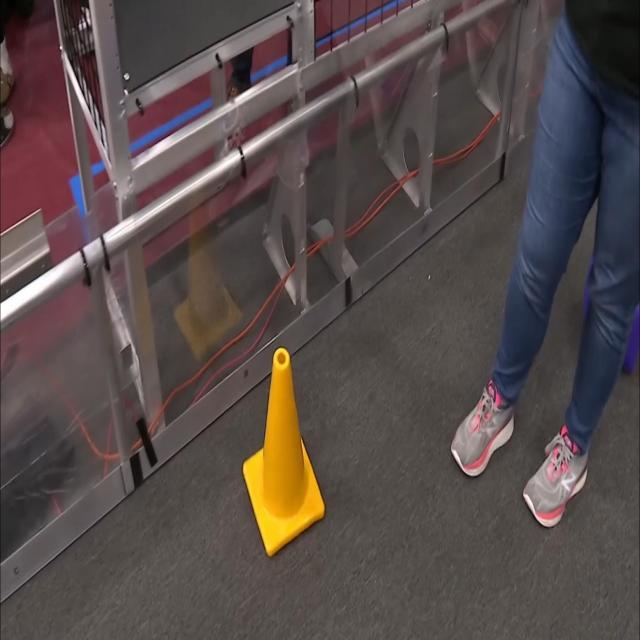frc_cone: (242, 334, 325, 560)
frc_cube: (626, 266, 640, 372)
